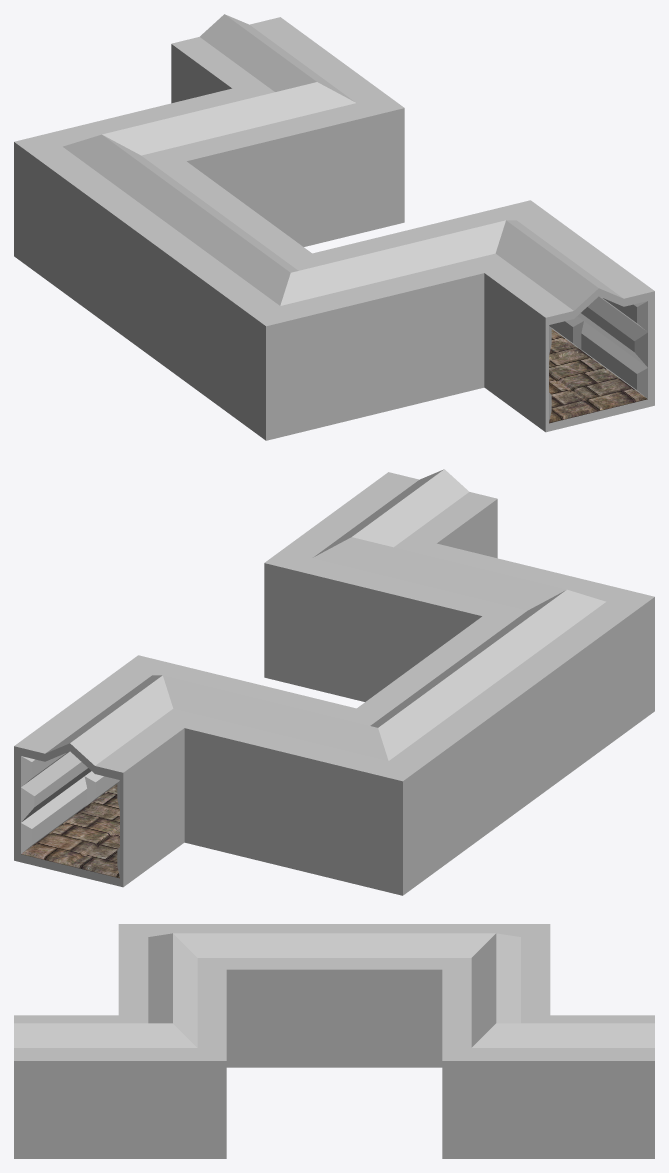
The model's file is ROOM_CONNECTOR_TUNNEL_1.fbx.
3 views of the same model, one above another, from view 1: azimuth 30°, elevation 25°; view 2: azimuth 150°, elevation 25°; view 3: azimuth 270°, elevation 25° (orthographic). The views are drawn at different scales.
Visible parts, largest first — view 1: Box001; view 2: Box001; view 3: Box001.
Boxes of the visible parts, bbox=[...] form: Box001: bbox=[14, 14, 654, 440]; Box001: bbox=[14, 469, 654, 895]; Box001: bbox=[14, 924, 654, 1158].
Bounding box in the file's own units: 1501 × 574 × 2972.
